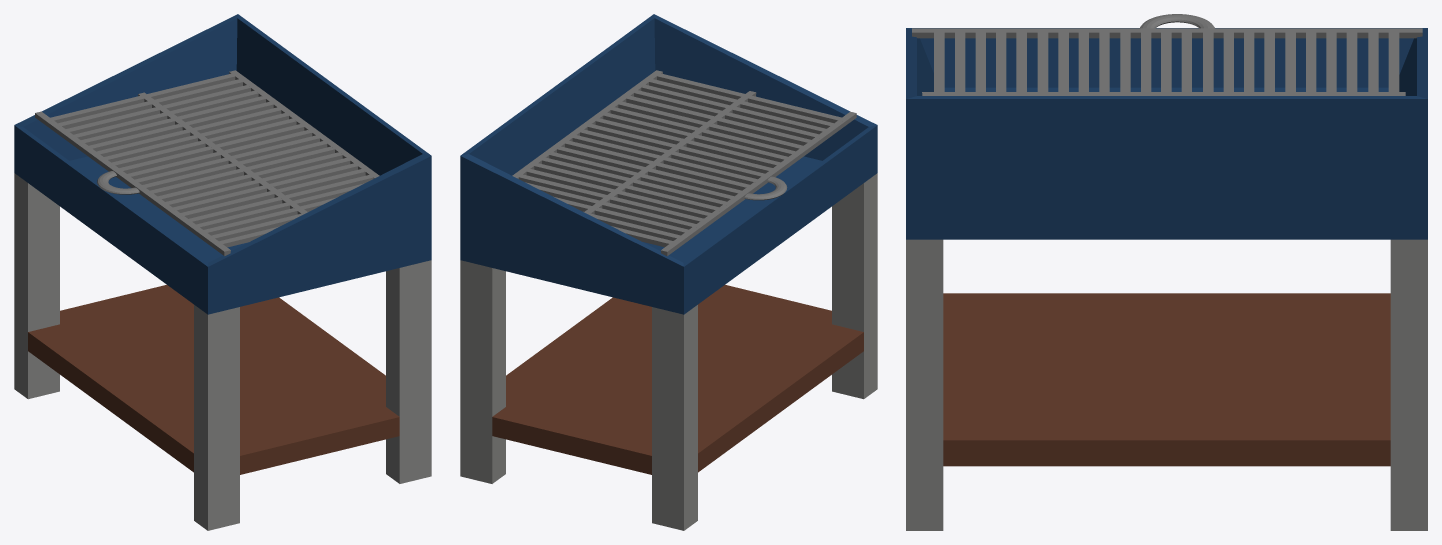
The model's file is barbecue.fbx.
The picture shows the model from 3 angles, left to right: view 1: azimuth 30°, elevation 25°; view 2: azimuth 150°, elevation 25°; view 3: azimuth 270°, elevation 25°; orthographic projection. The views are drawn at different scales.
Visible parts, largest first — view 1: Cube_001, Cube_014; view 2: Cube_001, Cube_014; view 3: Cube_001, Cube_014.
Boxes of the visible parts, x1=… form: Cube_001: x1=14, y1=14, x2=431, y2=530; Cube_014: x1=35, y1=70, x2=379, y2=255; Cube_001: x1=460, y1=14, x2=877, y2=530; Cube_014: x1=512, y1=70, x2=856, y2=256; Cube_001: x1=906, y1=28, x2=1427, y2=530; Cube_014: x1=912, y1=14, x2=1422, y2=95.
Size of the model in its own units: 1.71 by 2.28 by 2.5.
